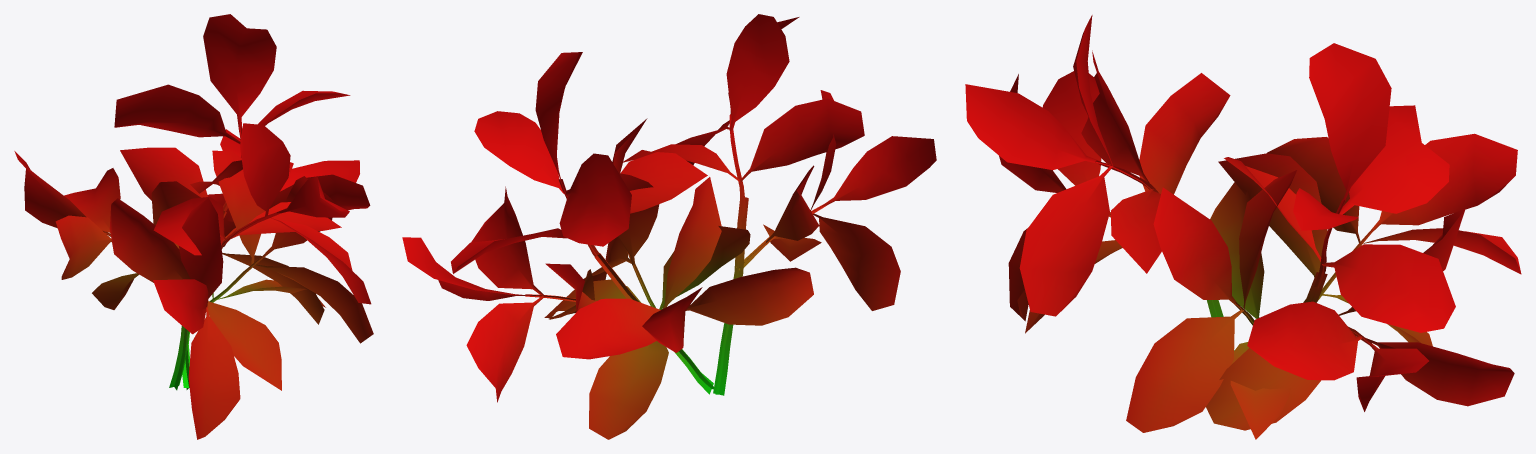
The model's file is European Spindle_LOD1_Var2.fbx.
3 renders of one model, left to right at view 1: azimuth 30°, elevation 25°; view 2: azimuth 150°, elevation 25°; view 3: azimuth 270°, elevation 25°, orthographic. The views are drawn at different scales.
Parts seen in each view (by area): view 1: _kyqm_Var2_LOD1; view 2: _kyqm_Var2_LOD1; view 3: _kyqm_Var2_LOD1.
Part boxes in pixels (<box>): _kyqm_Var2_LOD1: <box>14,14,373,439</box>; _kyqm_Var2_LOD1: <box>402,14,936,439</box>; _kyqm_Var2_LOD1: <box>965,15,1521,439</box>.
Size of the model in its own units: 26.83 by 23.94 by 29.51.
